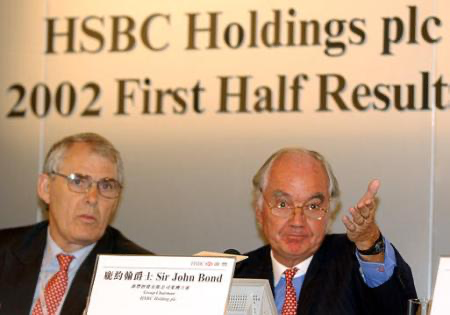Face: (50, 159, 123, 246), (254, 177, 328, 254)
